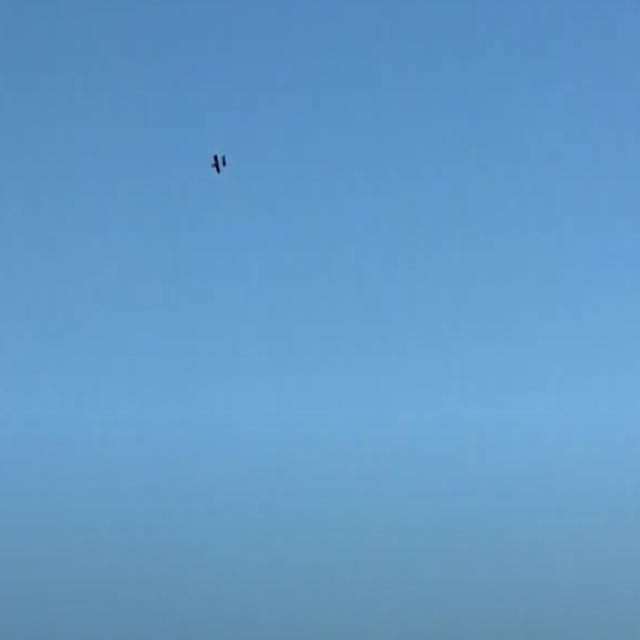iha: (209, 151, 226, 176)
